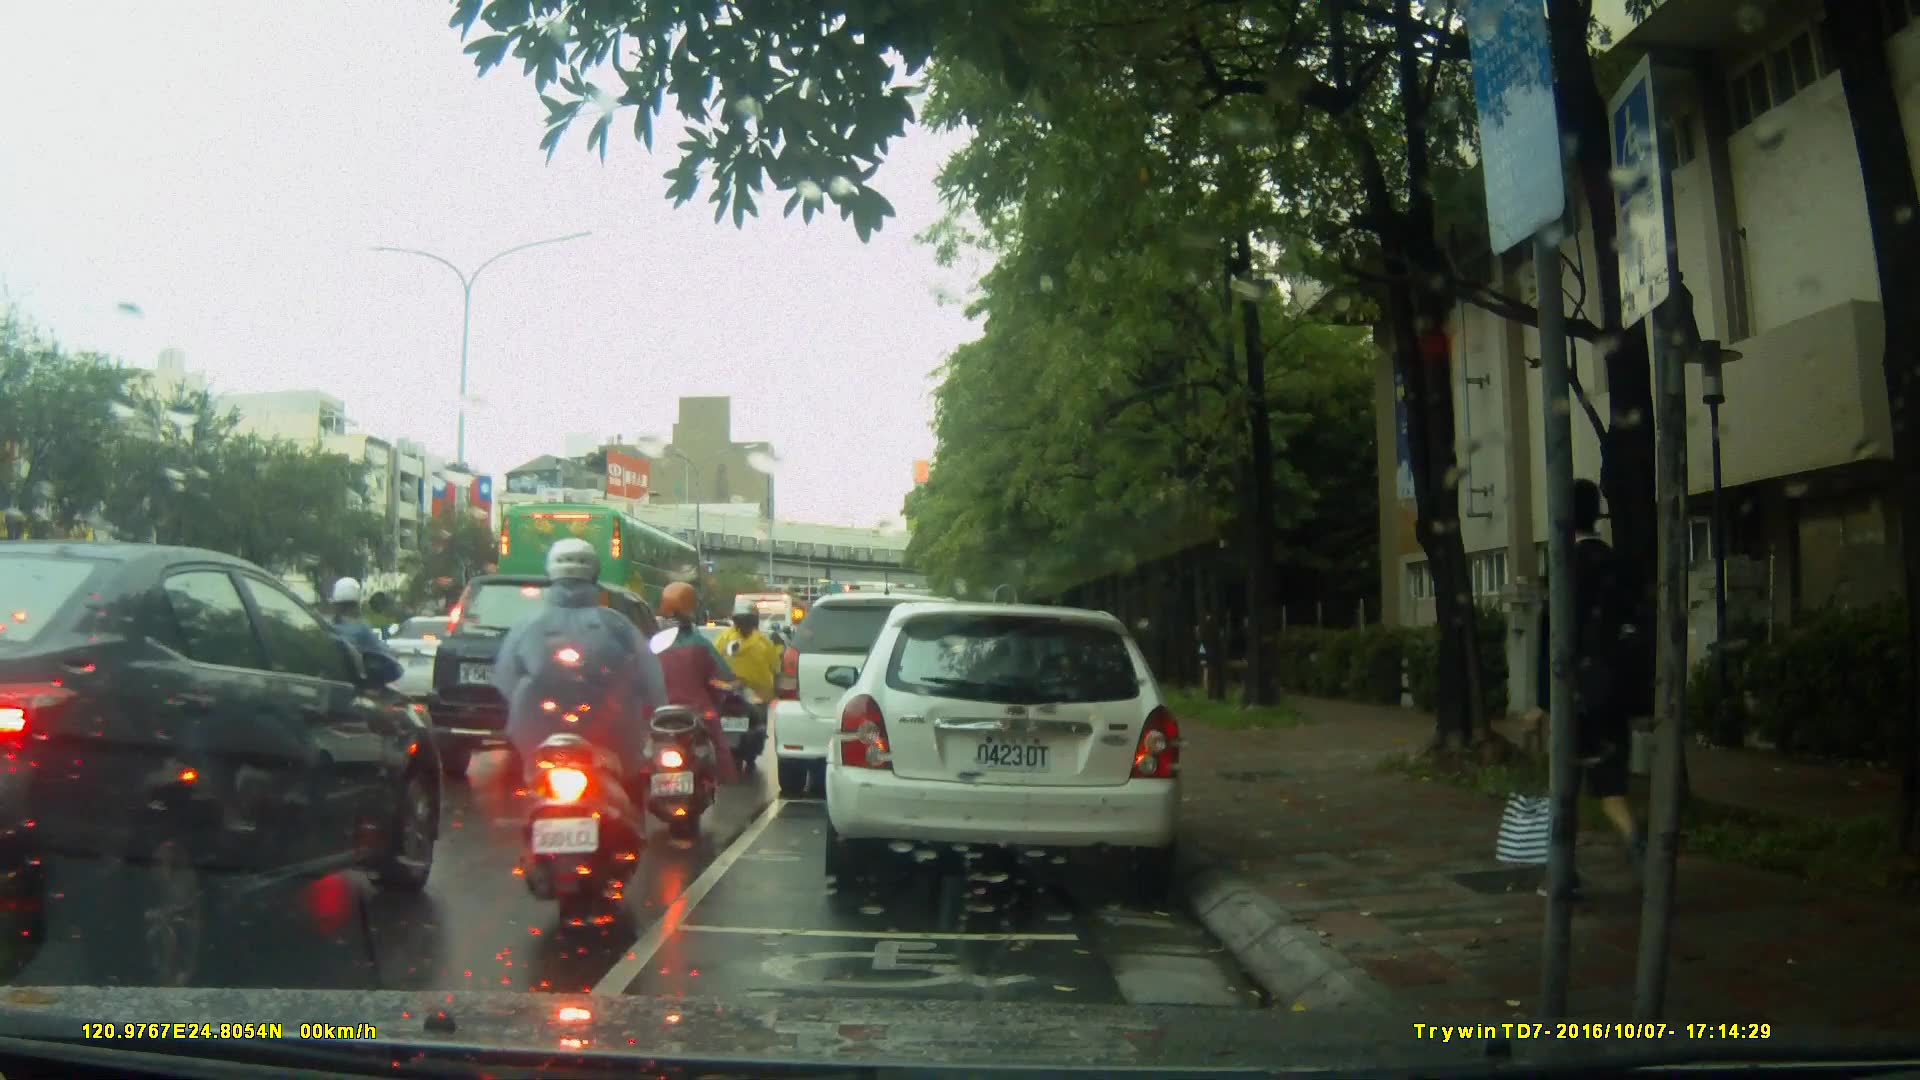pedestrian: (1490, 472, 1666, 906)
rider: (468, 535, 664, 925), (630, 583, 721, 839), (308, 578, 413, 779), (710, 598, 788, 766)
vehicle: (8, 536, 449, 987), (831, 592, 1196, 897), (429, 571, 679, 785), (770, 592, 999, 800), (493, 501, 705, 658)
